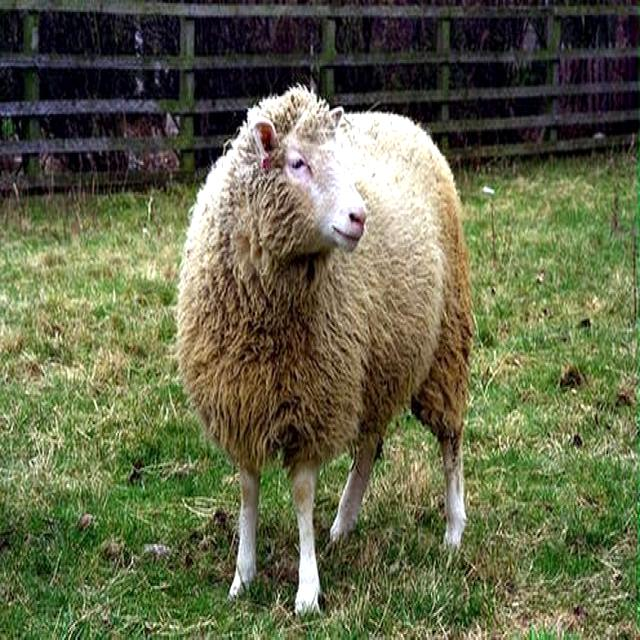sheep: (175, 92, 470, 614)
